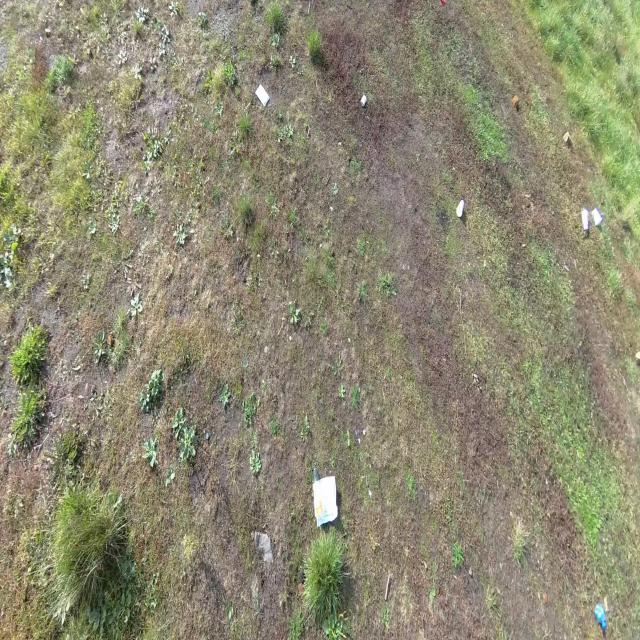rubbish: (311, 474, 338, 528), (253, 83, 271, 107), (594, 602, 607, 630), (591, 206, 603, 227), (562, 130, 574, 146), (581, 207, 589, 229), (456, 199, 465, 218), (510, 92, 520, 109), (311, 467, 319, 483), (360, 94, 368, 107), (440, 0, 447, 5)
